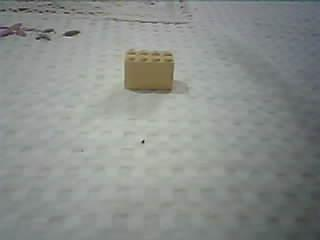lego: (122, 46, 175, 92)
